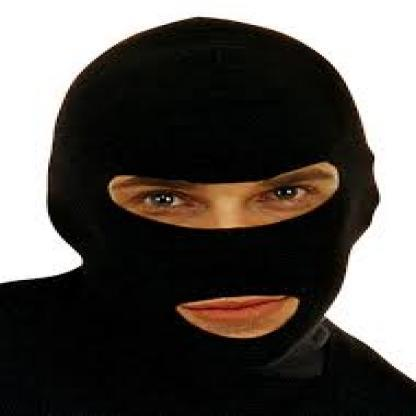criminal: (0, 17, 416, 416)
